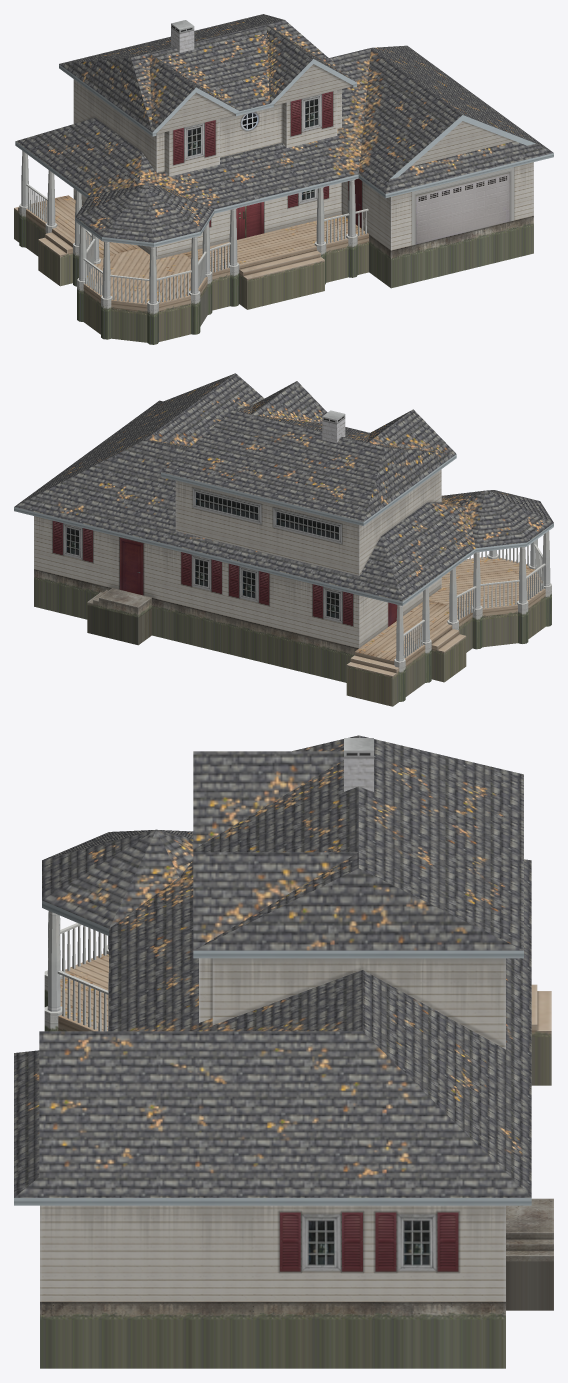
The model's file is House 1 - Separated.fbx.
3 views of the same model, one above another, from view 1: azimuth 30°, elevation 25°; view 2: azimuth 150°, elevation 25°; view 3: azimuth 270°, elevation 25° (orthographic). The views are drawn at different scales.
Parts seen in each view (by area): view 1: House 1, Door_Garage_Roller, Door_Front; view 2: House 1, Door_Back; view 3: House 1.
Boxes of the visible parts, x1,y1,x2,y2 form: House 1: (14,14,553,344); Door_Garage_Roller: (415,172,510,243); Door_Front: (238,202,261,239); House 1: (14,373,553,706); Door_Back: (122,541,140,594); House 1: (14,735,553,1368).
Bounding box in the file's own units: 6.81 × 3.46 × 4.24.
